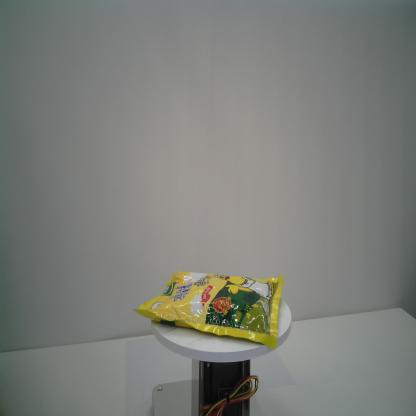Seasoner: (133, 270, 284, 350)
